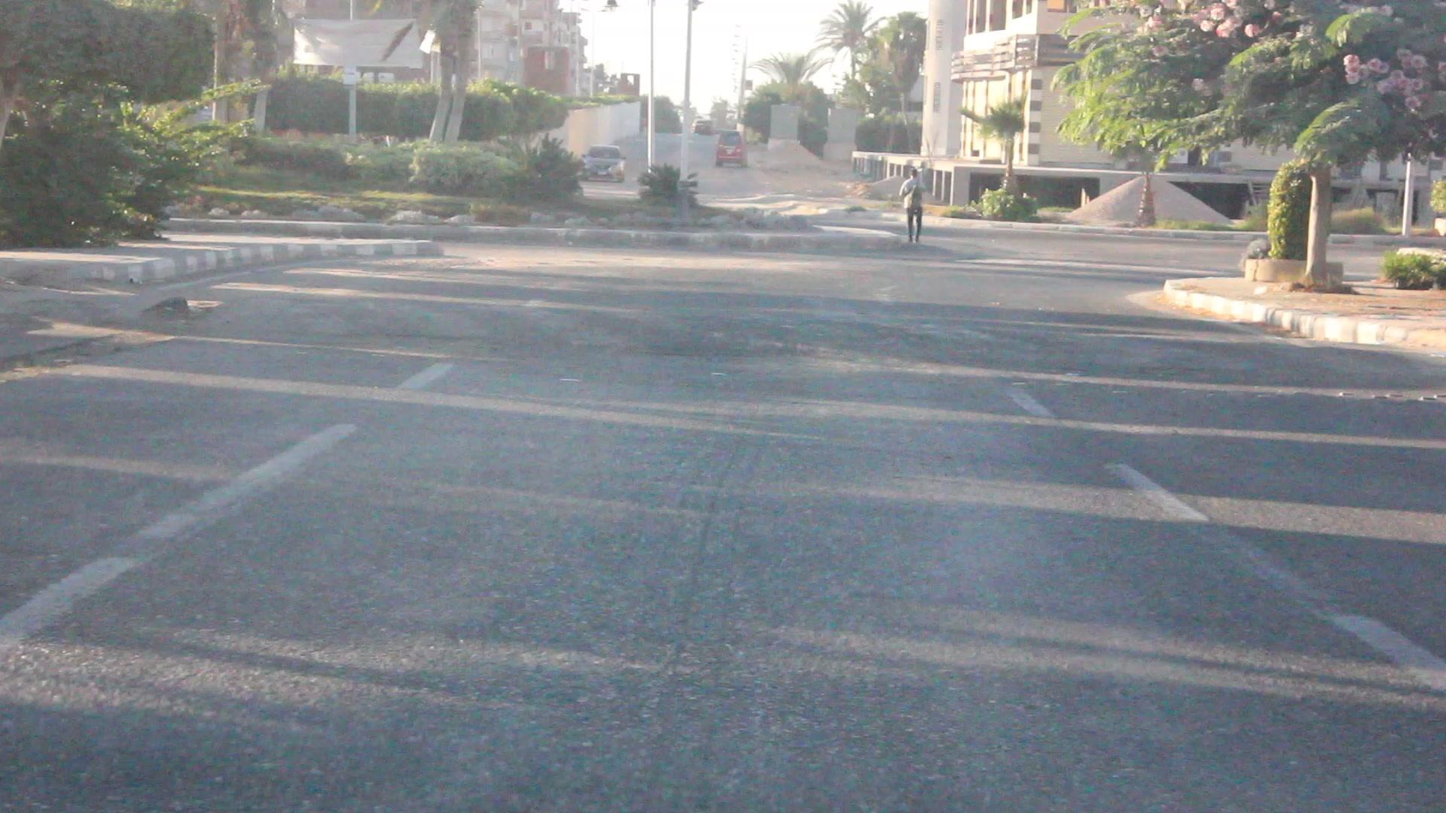Bump: (271, 294, 1356, 373)
